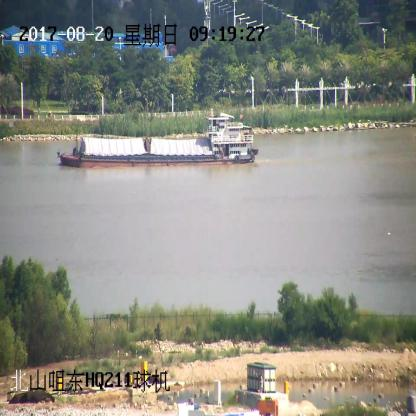Bulk Carrier: (60, 114, 256, 170)
